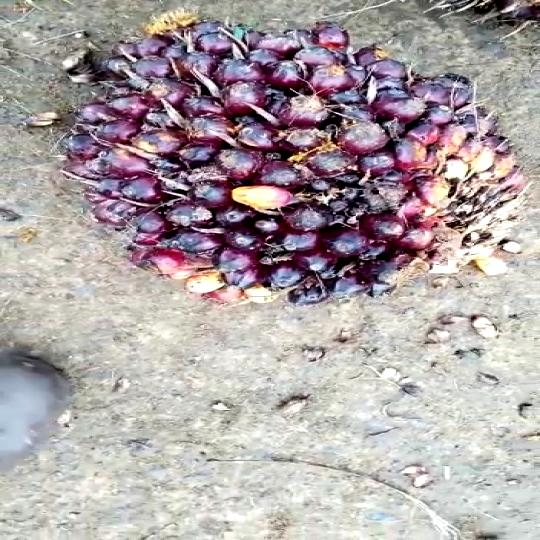mentah: (69, 12, 534, 310)
